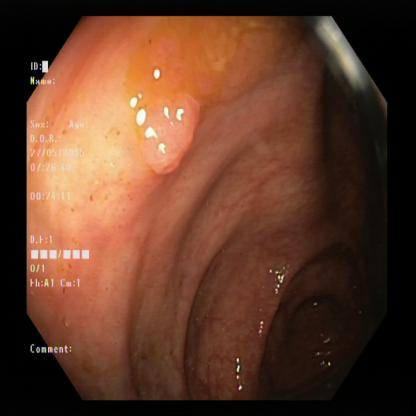Labels: (28, 58, 86, 358)
Polyps: (135, 83, 199, 177)
